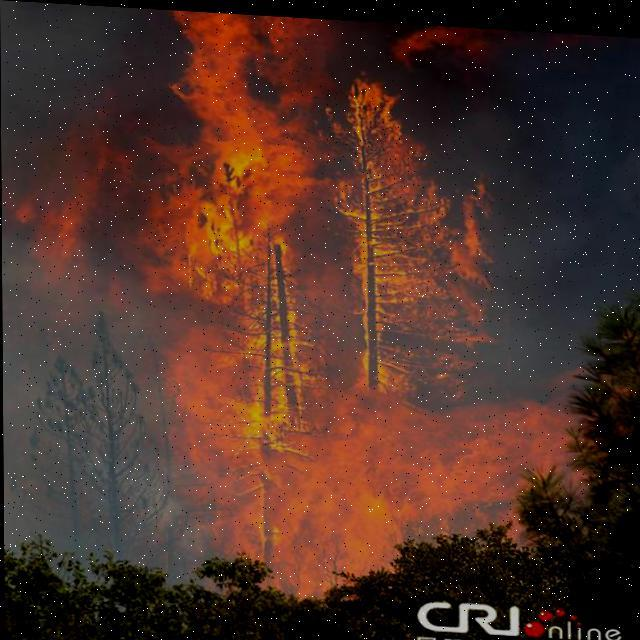Fire: (120, 9, 590, 599)
